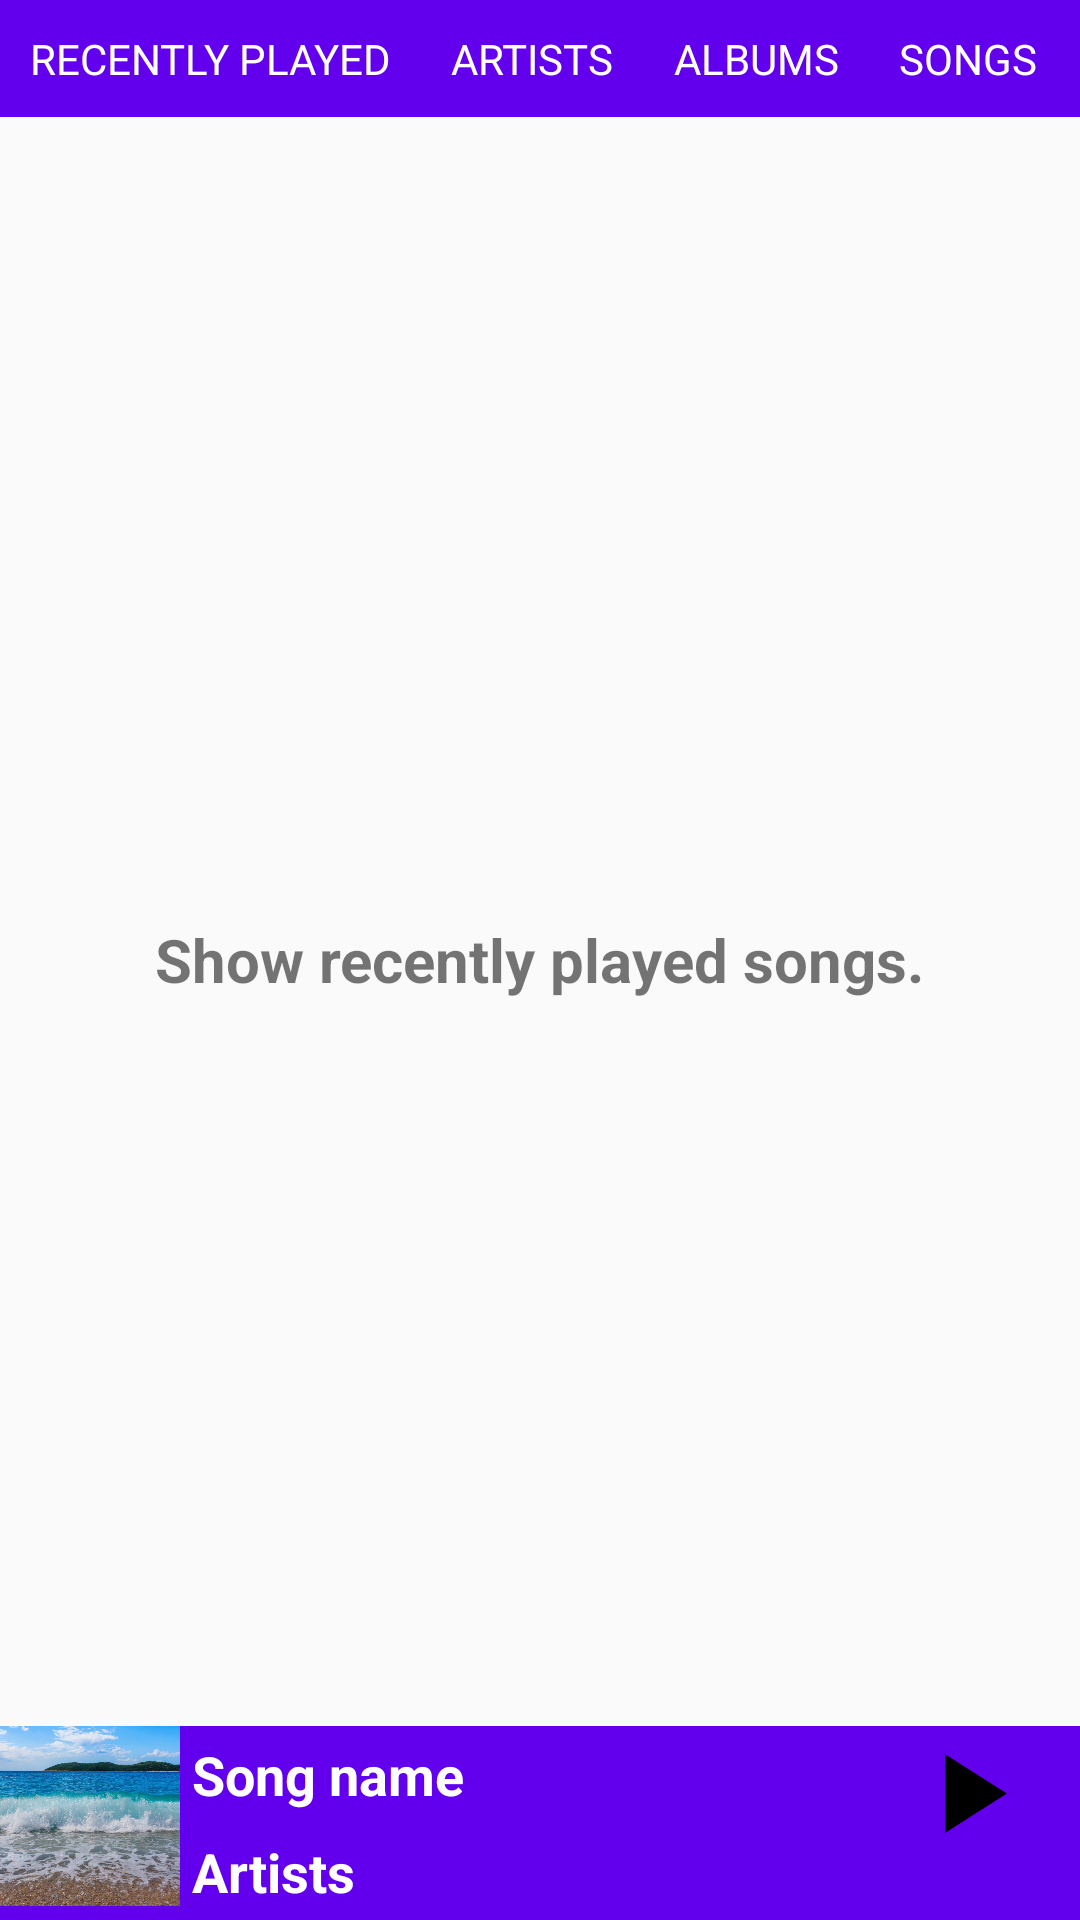

Named icons in this screenshot (1080px x 1920px) and their bounding boxes, (x1, y1, x2, y2):
album artwork: (0, 1726, 180, 1906)
play arrow: (945, 1754, 1007, 1833)
